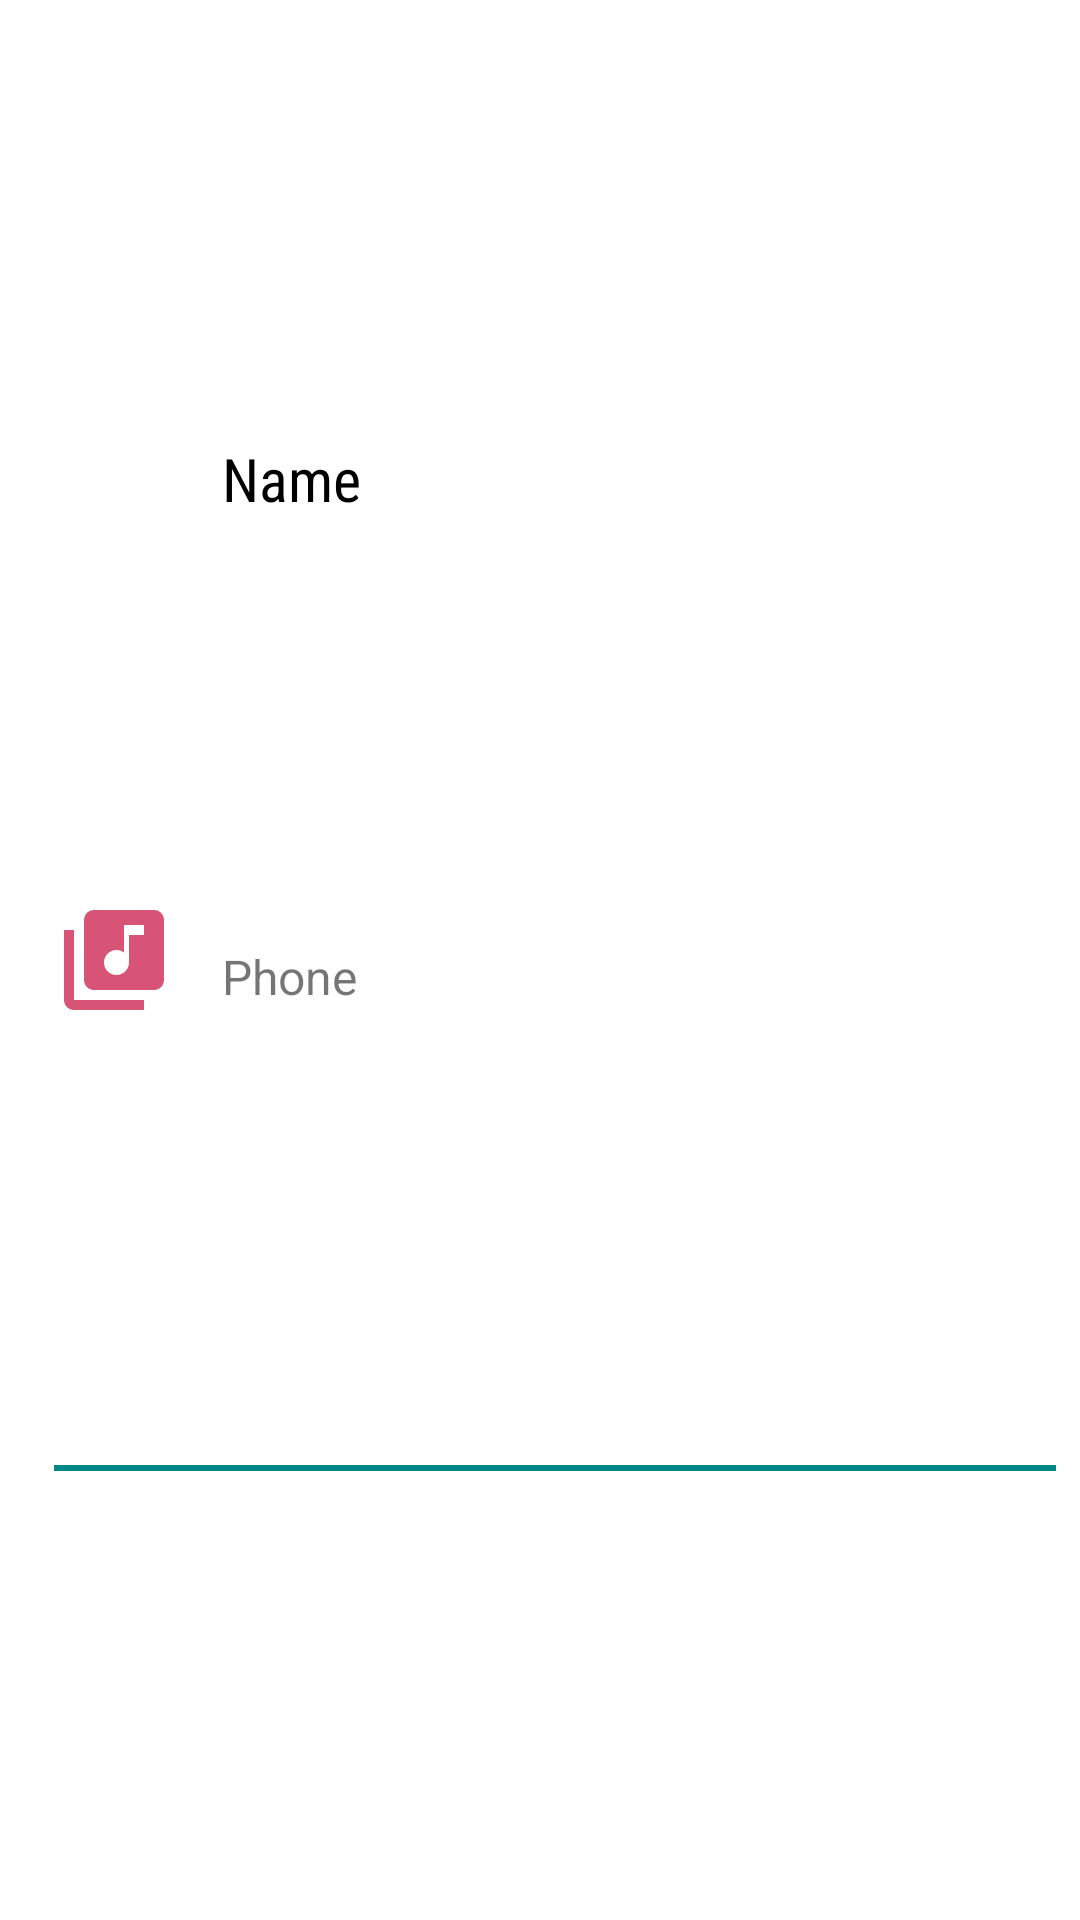

Icon bounding boxes for this 1080*1920 phone screenshot, format (x1, y1, x2, y2):
music: (64, 910, 164, 1010)
